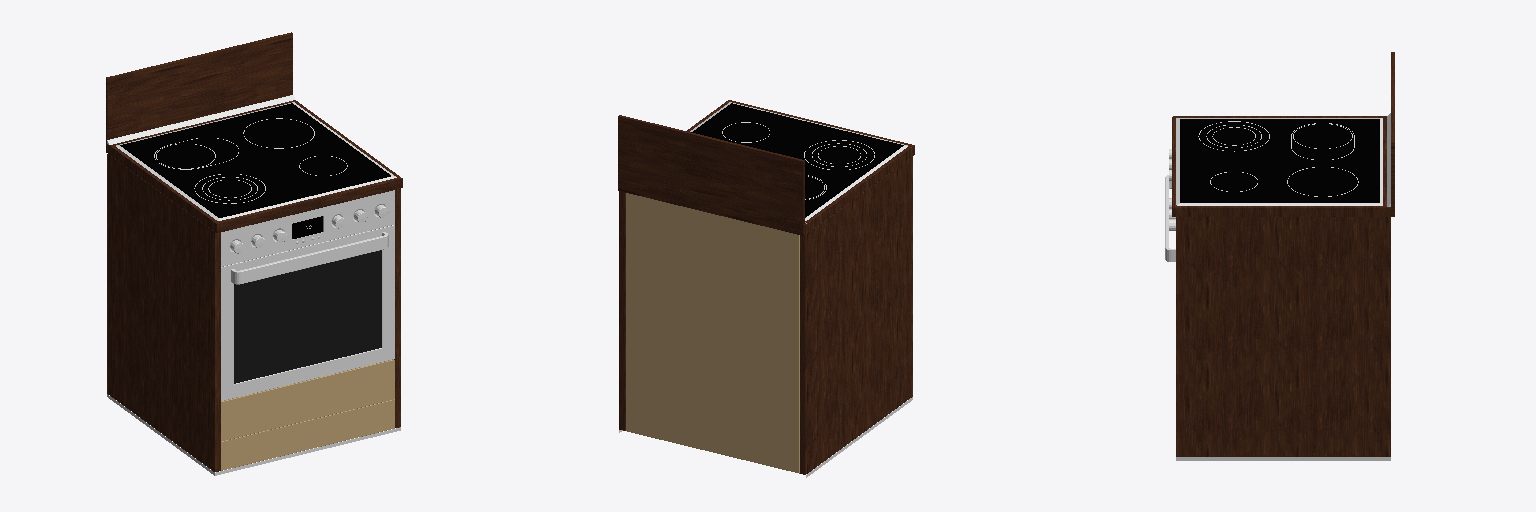
3 renders of one model, left to right at view 1: azimuth 30°, elevation 25°; view 2: azimuth 150°, elevation 25°; view 3: azimuth 270°, elevation 25°, orthographic.
Bounding box in the file's own units: 0.6 × 0.98 × 0.6399.
Materials: 8 (2 with a texture image).